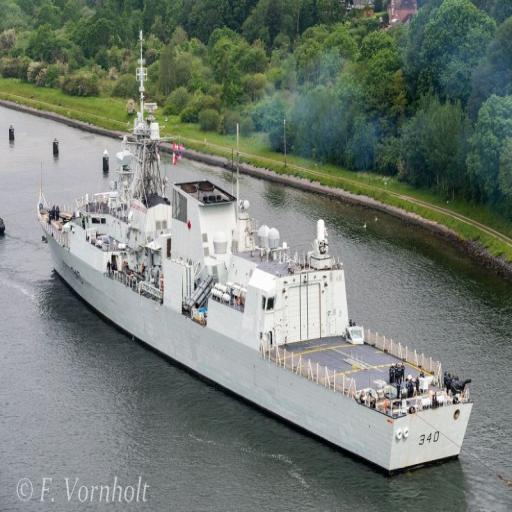Fragata: (34, 26, 476, 480)
